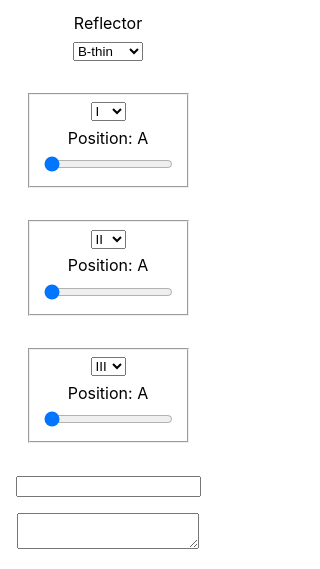
Test: rotor order can be changed
Select "III" in the 2nd dropdown: (108, 112) [90,102,126,121]
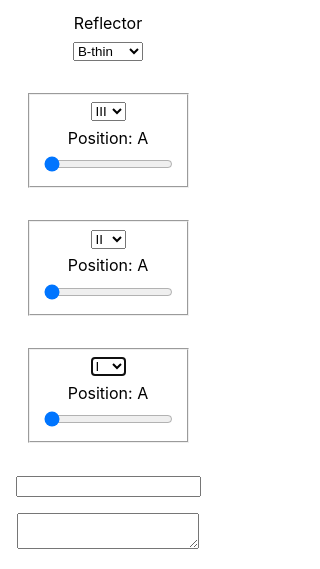
Select "V" in the 3rd dropdown: (108, 239) [90,230,126,249]
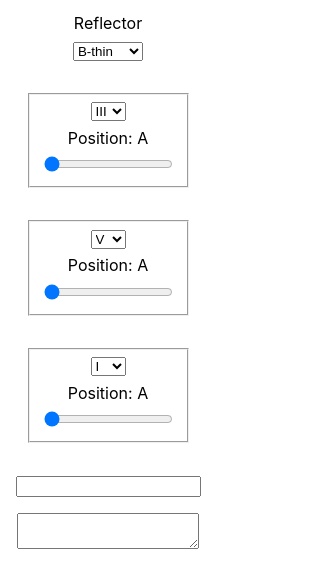
Expected: the 2nd dropdown shows "III", [90,102,126,121]
Now the 3rd dropdown shows "V", box [90,230,126,249]
